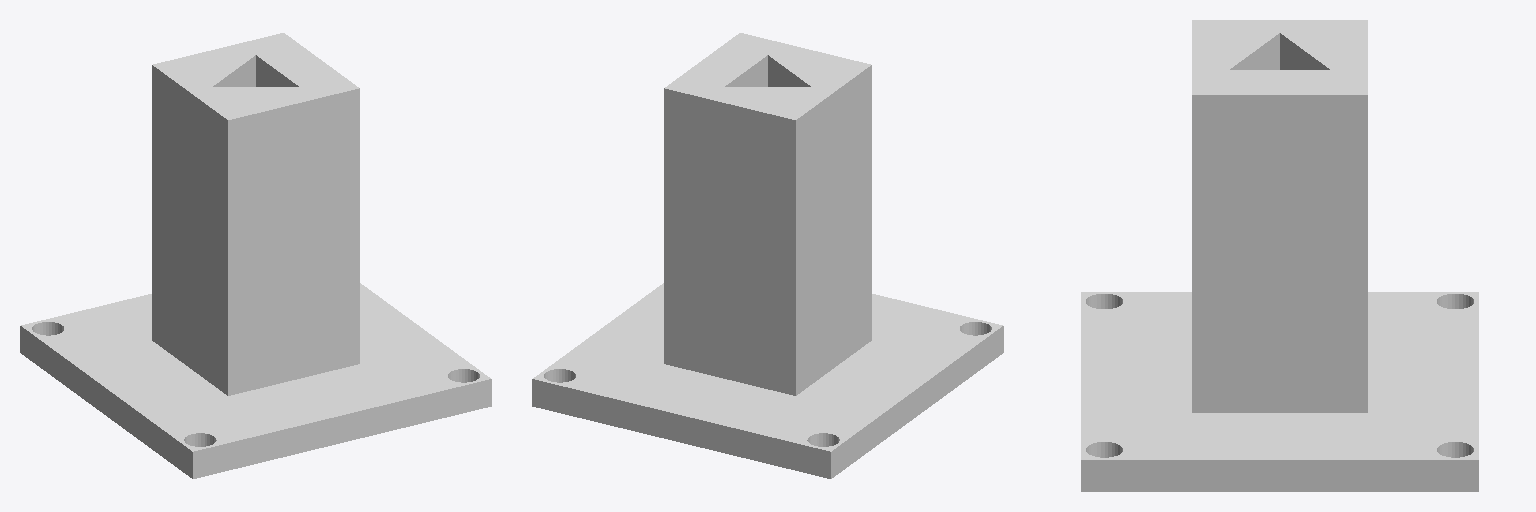
robot.urdf — base:
<?xml version="1.0" ?>

<robot name="base">
	<link name="base">
<!-- 	    <contact>
	      <stiffness value="100000000000000.0"/>
	      <damping value="1.0"/>
	      <lateral_friction value="1"/>
	      <spinning_friction value="0"/>
	      <rolling_friction value="0"/>
	    </contact> -->
  		<!-- <contact_coefficients kd="100" kp="100" mu="0.001"/> -->
		<inertial>
			<origin xyz="0 0 0"/>
			<mass value="0.1"/>
			<inertia ixx="0.1" ixy="0" ixz="0" iyy="0.1" iyz="0" izz="0.1"/>
		</inertial>
		<visual>
			<origin rpy="0 0 0" xyz="0 0 0"/>
	      	<geometry>
	      		<!-- <cylinder length="0.001" radius="0.001"/> -->
	        	<mesh filename="base.obj"/>
	      	</geometry>
	  		<material name="panda_white">
	  			<color rgba="0.91 0.91 0.91 1."/>
				</material>
		</visual>
		<collision concave="yes">
	  		<origin rpy="0 0 0" xyz="0 0 0"/>
	  		<geometry>
	  			<!-- <cylinder length="0.001" radius="0.001"/> -->
	    		<mesh filename="base.obj"/>
	  		</geometry>
	  		<material name="panda_white"/>
		</collision>
	</link>

</robot>

--- What the picture shows (computed from the rendered views, not written in the file) ---
Views: 3 orthographic renders of the robot side by side, from view 1: azimuth 30°, elevation 25°; view 2: azimuth 150°, elevation 25°; view 3: azimuth 270°, elevation 25°.
Model base with 1 links and 0 joints (none), rooted at base, posed all joints at 0.
Visible links, largest first — view 1: base; view 2: base; view 3: base.
Link boxes in pixels (bbox=[...]): base: bbox=[20, 33, 491, 478]; base: bbox=[532, 33, 1003, 478]; base: bbox=[1081, 20, 1478, 491].
Bounding box of the posed robot: 0.068 × 0.068 × 0.066 m (x, y, z).
1 mesh visuals loaded from 1 distinct referenced files (1 OBJ).